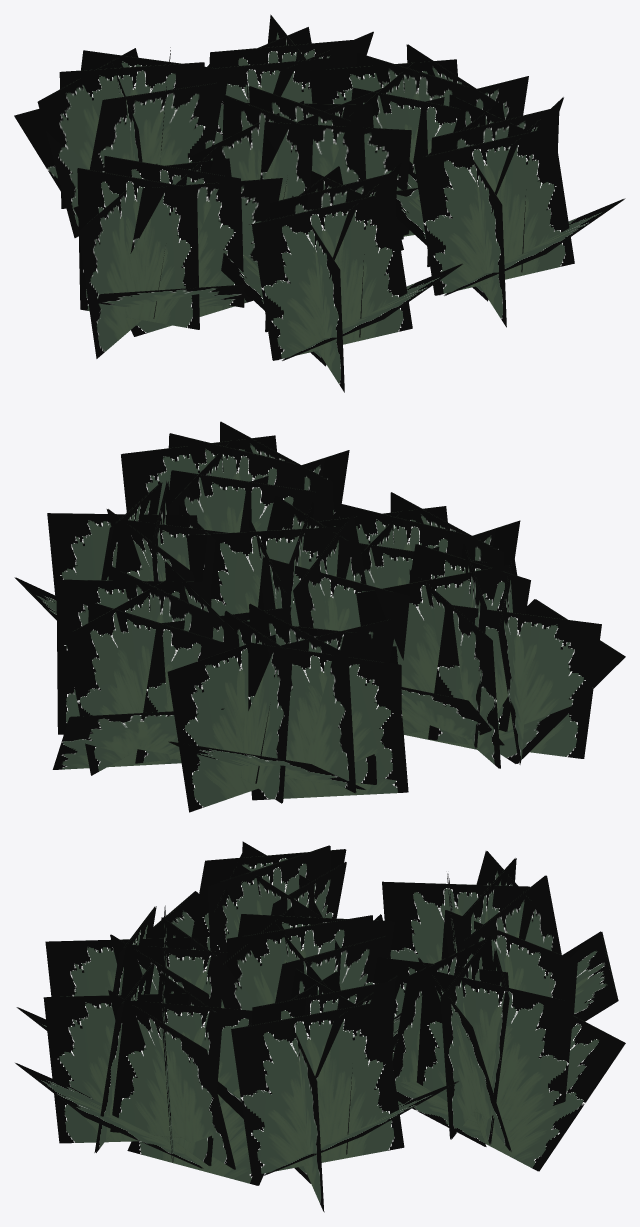
Rendered from GrassClump.fbx.
3 renders of one model, top to bottom at view 1: azimuth 30°, elevation 25°; view 2: azimuth 150°, elevation 25°; view 3: azimuth 270°, elevation 25°, orthographic. The views are drawn at different scales.
Parts seen in each view (by area): view 1: Grass_Clump; view 2: Grass_Clump; view 3: Grass_Clump.
Boxes of the visible parts, box(x1,y1,x2,y2) form: Grass_Clump: box(14, 14, 625, 392); Grass_Clump: box(14, 421, 625, 812); Grass_Clump: box(15, 841, 625, 1212).
Bounding box in the file's own units: 149 × 54.5 × 150.
1 material, 1 textured.
